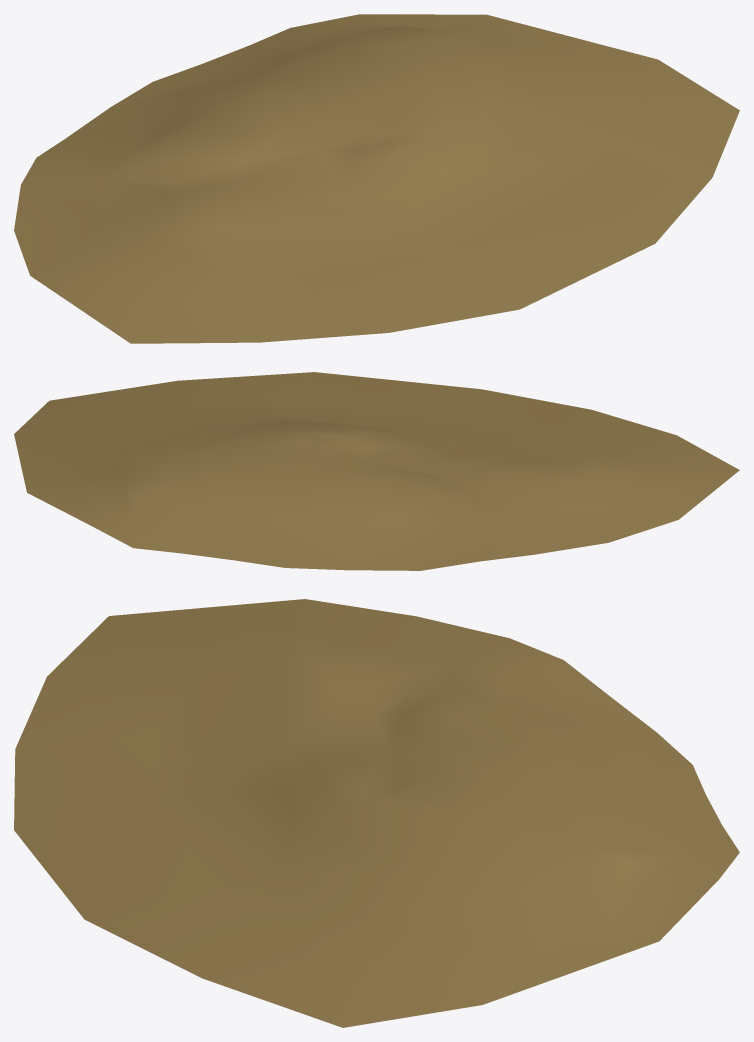
The model's file is EB_SandBar1_a4_GD.glb.
3 renders of one model, top to bottom at view 1: azimuth 30°, elevation 25°; view 2: azimuth 150°, elevation 25°; view 3: azimuth 270°, elevation 25°, orthographic. The views are drawn at different scales.
Parts seen in each view (by area): view 1: Sandbar; view 2: Sandbar; view 3: Sandbar.
Boxes of the visible parts, <box> form: Sandbar: <box>14,14,739,343</box>; Sandbar: <box>14,372,739,570</box>; Sandbar: <box>14,599,739,1027</box>.
Bounding box in the file's own units: 93.59 × 6.85 × 71.52.
